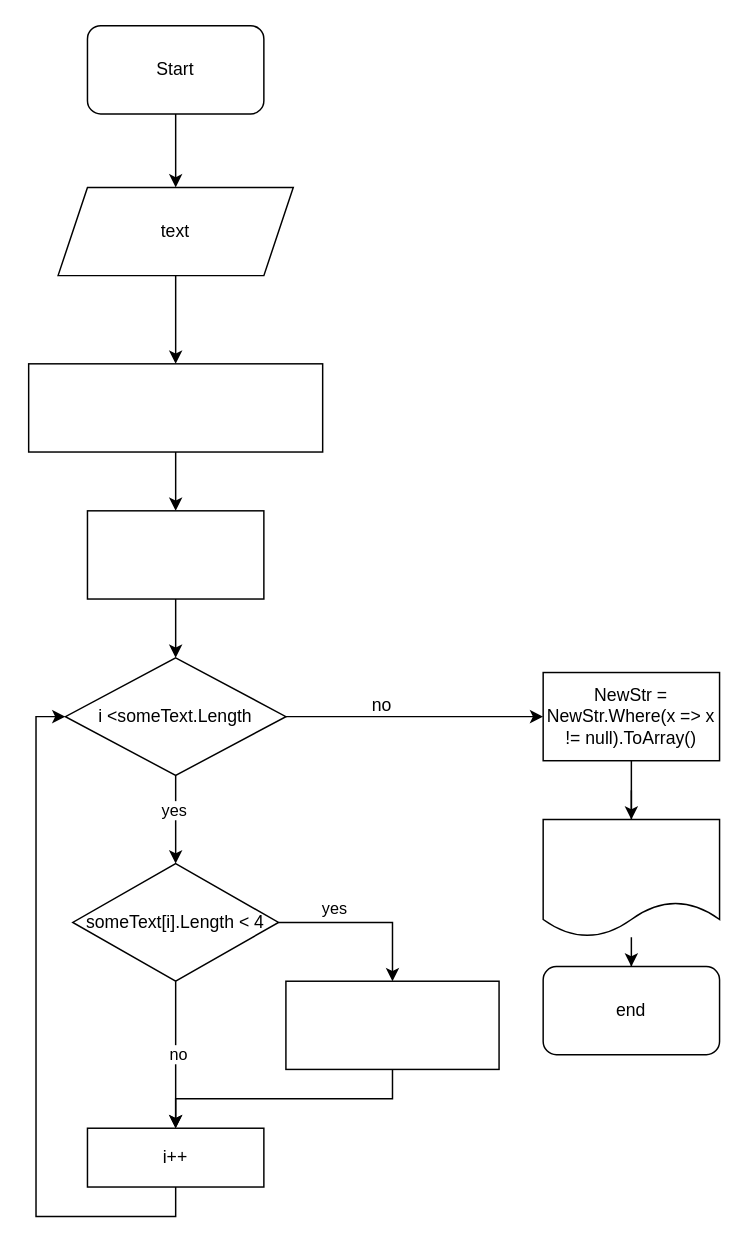
Image size: 745x1254. Some labels were removed from this diagram. Each missing label, with the box of its shape:
n = 0 newStr[] = [] i = 0: (86, 509, 264, 599)
newStr[n] = someText [i] n++: (284, 980, 499, 1069)
print (NewStr): (542, 818, 720, 937)
someText[] = split(" ").ToArray(): (27, 362, 323, 452)
